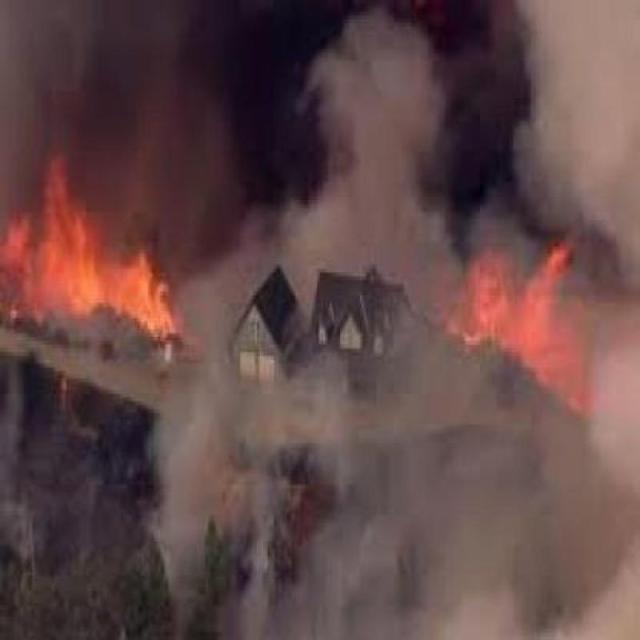Fire: (1, 182, 181, 360), (452, 236, 603, 402)
Smoke: (207, 384, 458, 638), (467, 417, 640, 640)
